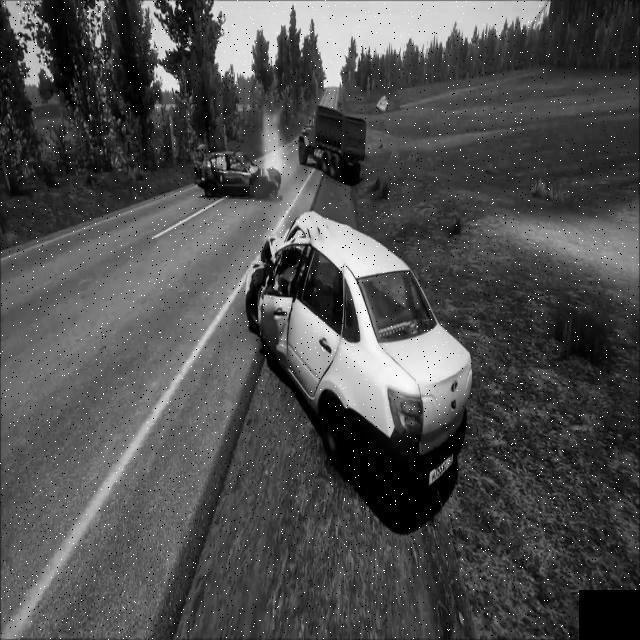accident: (242, 205, 474, 507), (192, 137, 288, 215)
vehicle: (296, 105, 368, 183)
